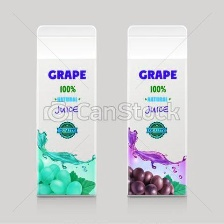carton: (121, 23, 196, 203), (29, 21, 99, 199)
